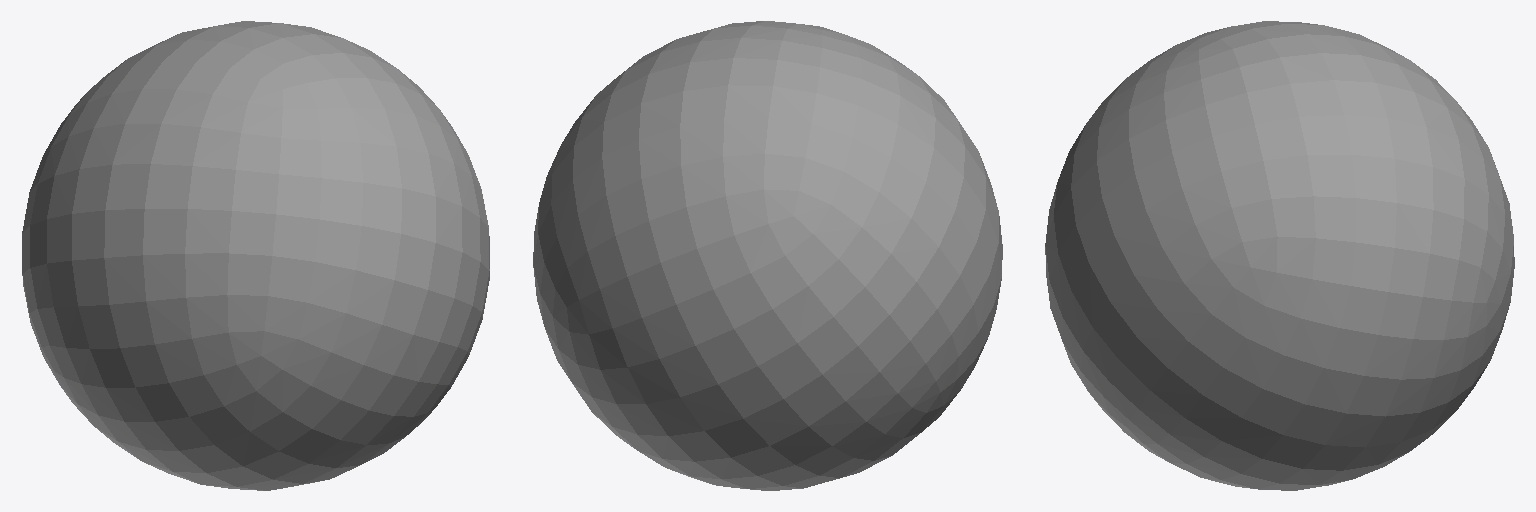
Rendered from mars.obj.
3 renders of one model, left to right at view 1: azimuth 30°, elevation 25°; view 2: azimuth 150°, elevation 25°; view 3: azimuth 270°, elevation 25°, orthographic.
Parts seen in each view (by area): view 1: Atmosphere_Cube.010; view 2: Atmosphere_Cube.010; view 3: Atmosphere_Cube.010.
Boxes of the visible parts, box(x1,y1,x2,y2) form: Atmosphere_Cube.010: box(22, 21, 489, 490); Atmosphere_Cube.010: box(533, 21, 1002, 490); Atmosphere_Cube.010: box(1045, 21, 1514, 490).
Bounding box in the file's own units: 6.86 × 6.85 × 6.84.